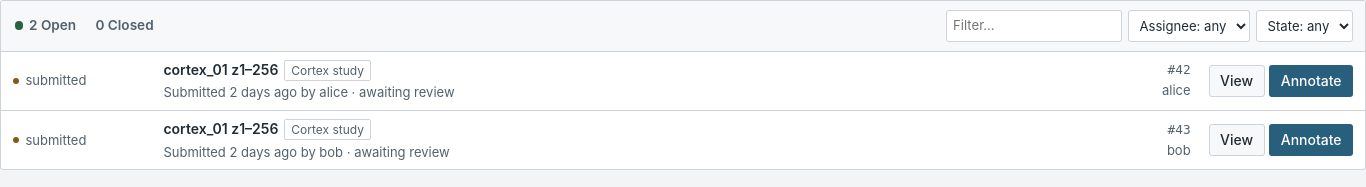
Test: WorkList filtering › narrows by assignee without a refetch
The width and height of the screenshot is (1366, 187).
Select "bob" in the 1st dropdown named "Assignee" at (1189, 26), box [1128,10,1250,42]
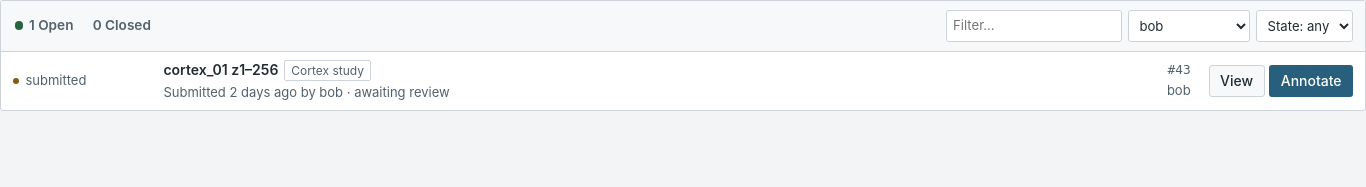
Check: the link "#43" is shown, box [1168,61,1191,80]
Check: the link "#42" is gone
